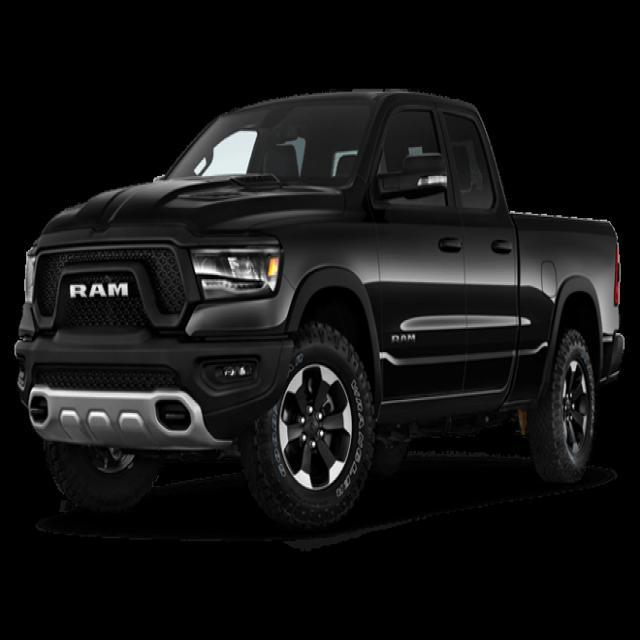person: (13, 84, 626, 531)
